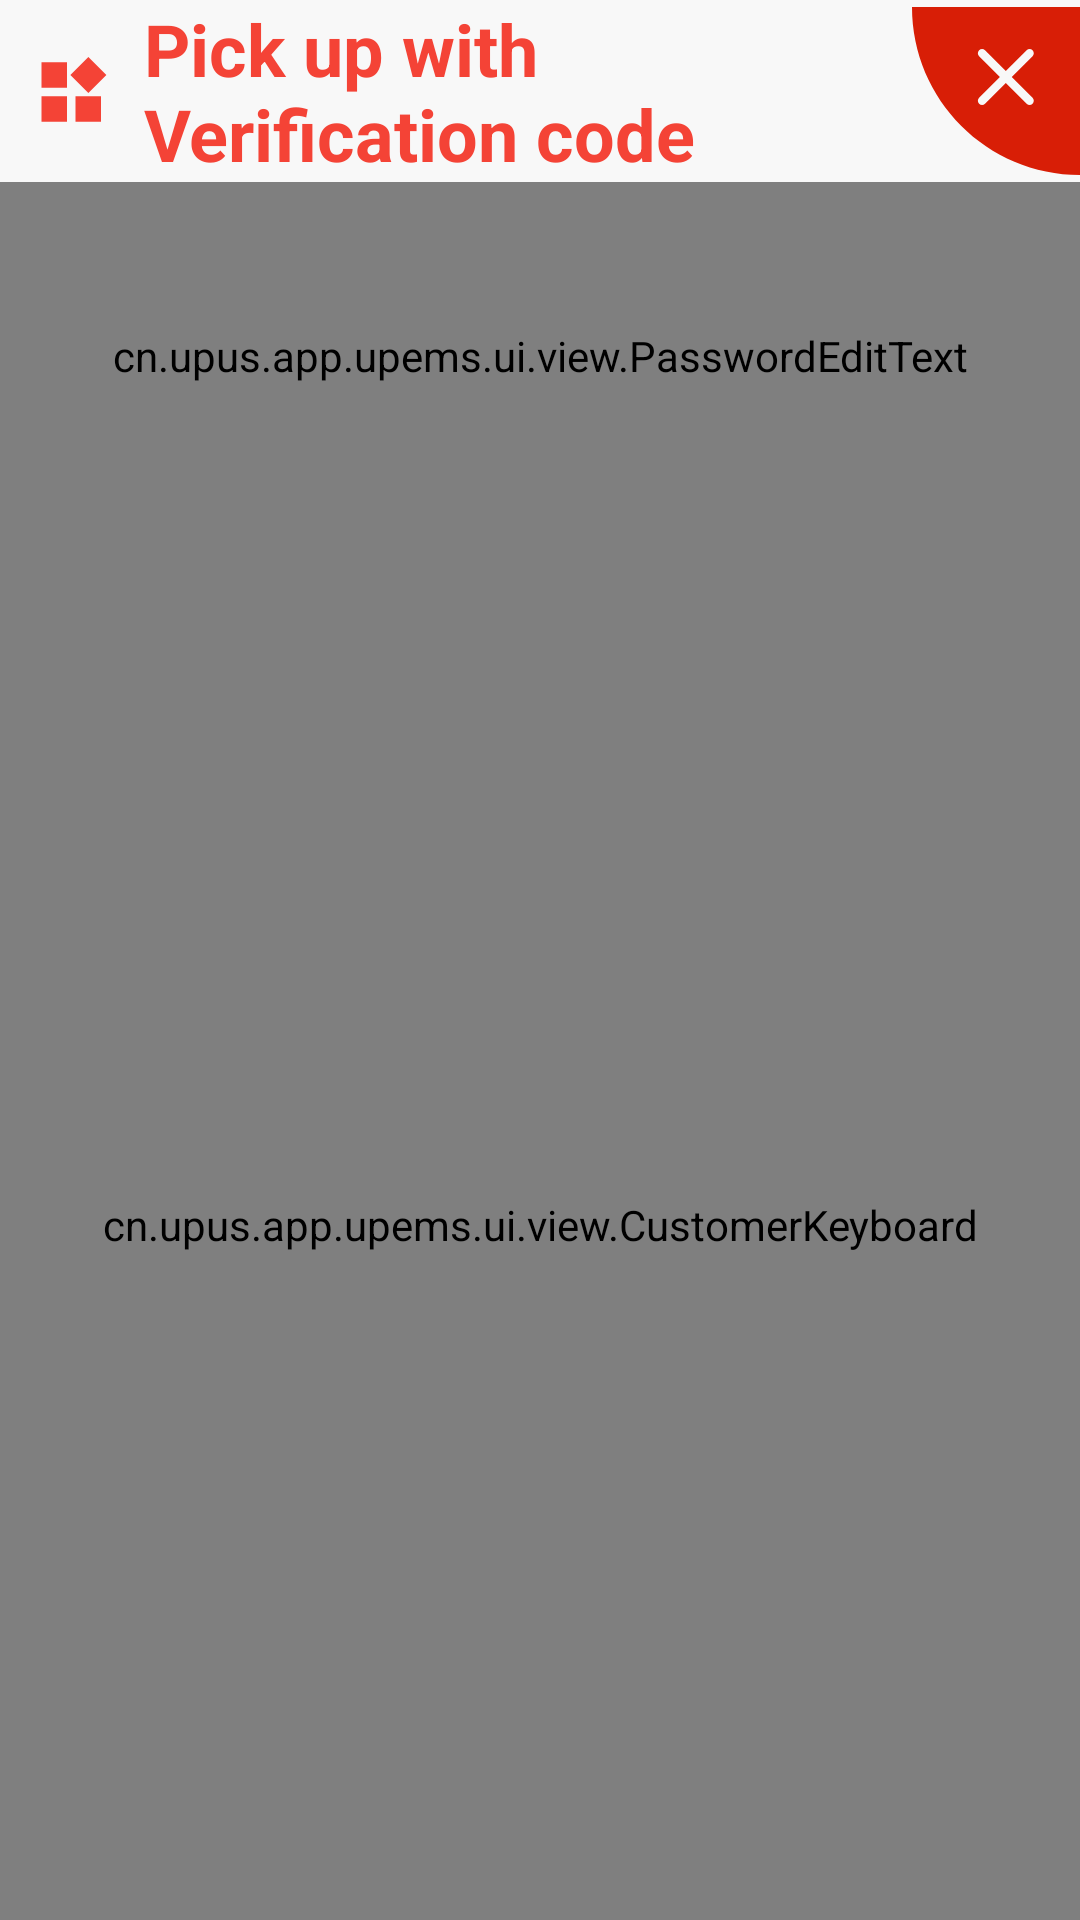

Named icons in this screenshot (1080w x 1920h) and their centers, point (x, y):
close: point (996, 91)
